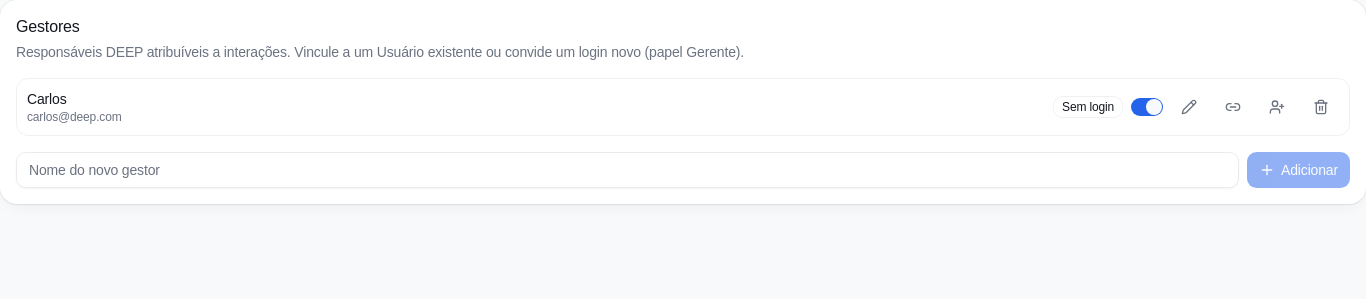
Test case: ManagersSettings › exibe erro quando salvar a edição falha
This screenshot has width=1366, height=299.
Click the button named "Editar Carlos".
click(1189, 107)  # box [1171, 89, 1207, 125]
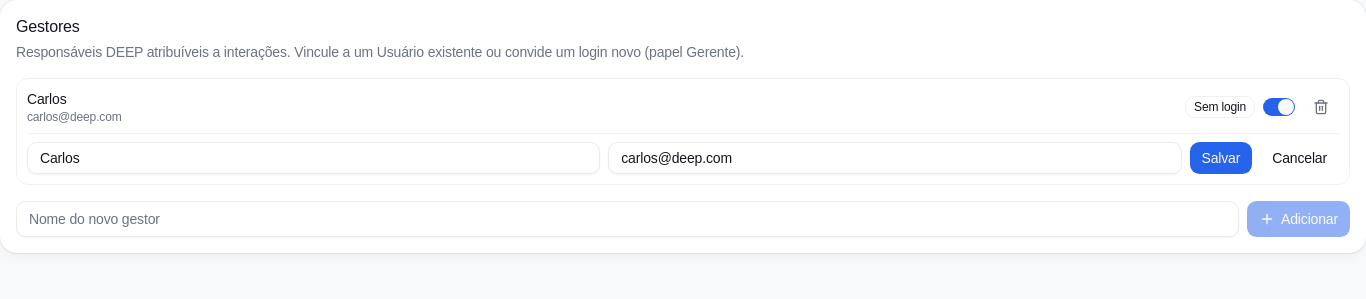
Click the button "Salvar".
click(1221, 158)  # box [1190, 142, 1252, 174]
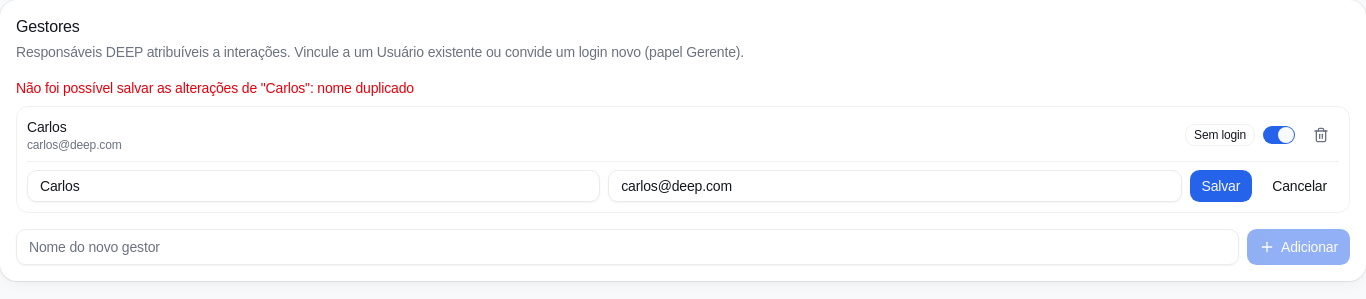
Check: the message shows "nome duplicado", box [16, 80, 414, 96]
